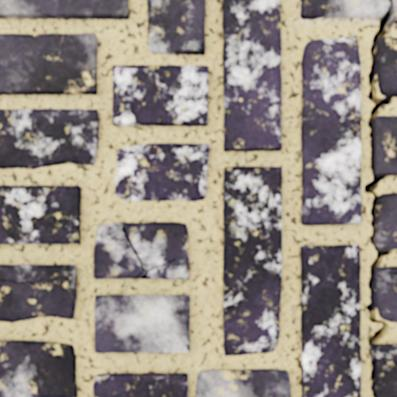brick: (301, 36, 361, 224), (223, 166, 281, 355), (301, 245, 360, 396), (222, 0, 281, 151), (0, 33, 96, 94), (113, 65, 208, 126), (0, 109, 98, 168), (115, 143, 208, 201), (95, 295, 189, 352), (94, 222, 188, 278), (0, 185, 80, 244), (0, 264, 76, 321), (0, 340, 76, 396), (147, 0, 204, 54), (196, 369, 290, 396), (0, 0, 128, 19), (93, 373, 187, 396), (374, 116, 396, 174), (375, 266, 396, 321), (377, 38, 396, 96), (375, 344, 396, 396), (377, 193, 396, 248)
broken_brick: (300, 0, 388, 19), (389, 12, 396, 23)
crack: (364, 0, 396, 396), (121, 225, 176, 279), (386, 270, 396, 275), (184, 342, 190, 350)
